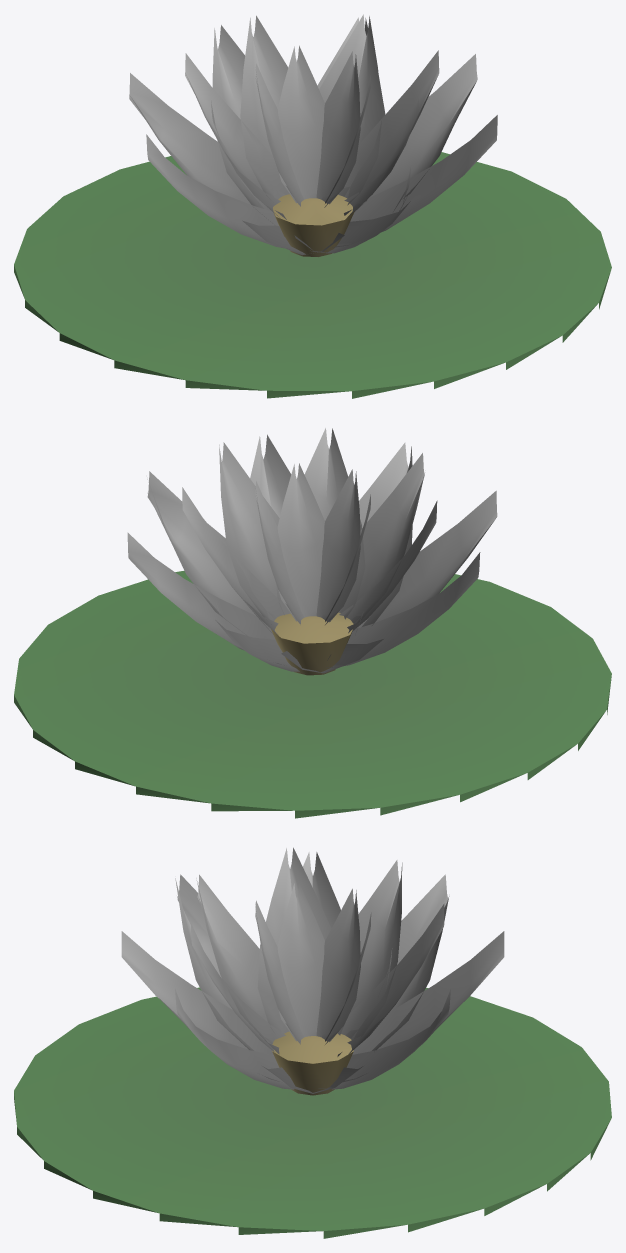
Rendered from plant_lotus_1.glb.
3 renders of one model, top to bottom at view 1: azimuth 30°, elevation 25°; view 2: azimuth 150°, elevation 25°; view 3: azimuth 270°, elevation 25°, orthographic.
Parts seen in each view (by area): view 1: plant_lotus_1; view 2: plant_lotus_1; view 3: plant_lotus_1.
Part boxes in pixels (bbox=[...]): plant_lotus_1: bbox=[14, 14, 611, 398]; plant_lotus_1: bbox=[14, 428, 611, 818]; plant_lotus_1: bbox=[14, 847, 611, 1238].
Bounding box in the file's own units: 0.8395 × 0.3236 × 0.8352.
